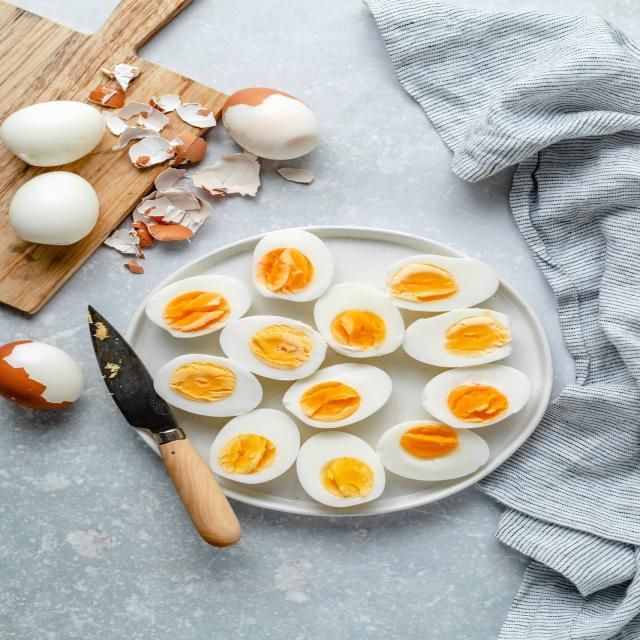boiled egg: (283, 364, 392, 428), (222, 88, 320, 159), (422, 365, 531, 428), (220, 316, 326, 380), (0, 101, 104, 166), (314, 283, 404, 358), (155, 354, 262, 417), (377, 420, 489, 480), (209, 409, 299, 483), (297, 432, 385, 507), (146, 275, 251, 337), (9, 172, 98, 245), (403, 308, 512, 367), (387, 255, 499, 311), (251, 229, 333, 301)
